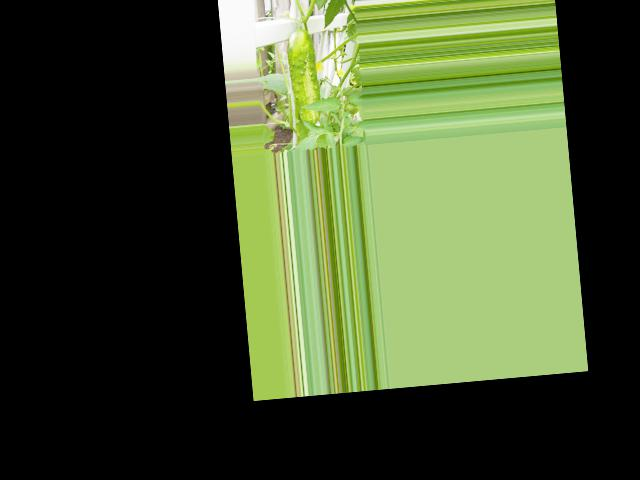cucumber: (285, 27, 321, 124)
